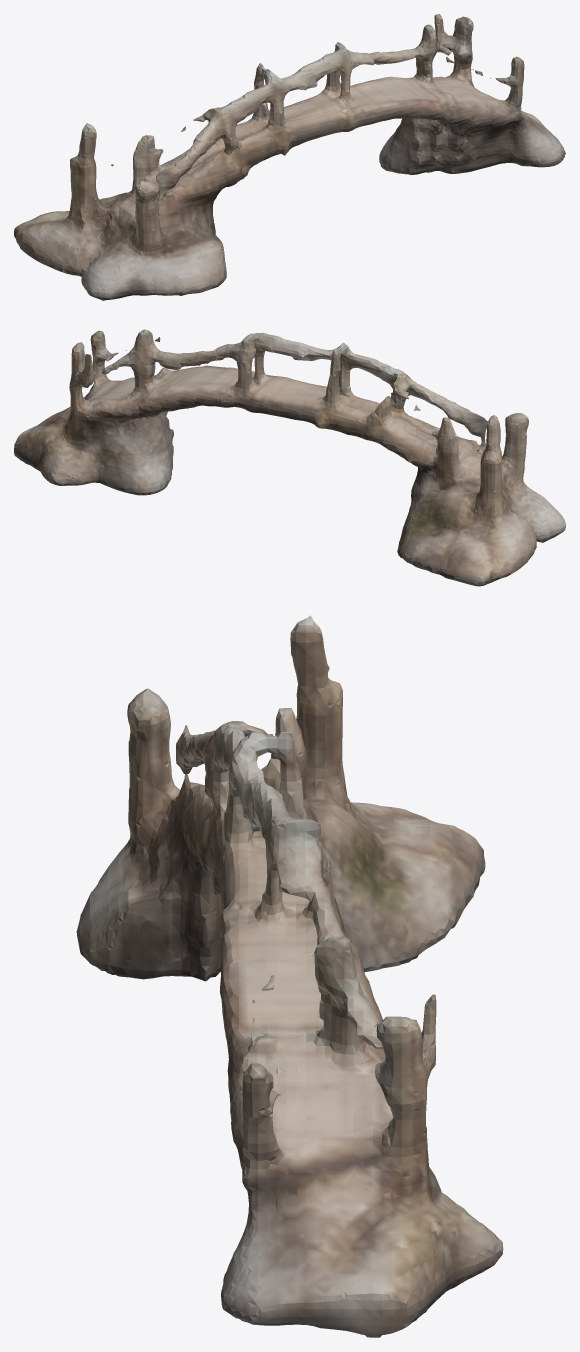
The model's file is BF2ZqomsUjuK.jpg.glb.
The picture shows the model from 3 angles, top to bottom: view 1: azimuth 30°, elevation 25°; view 2: azimuth 150°, elevation 25°; view 3: azimuth 270°, elevation 25°; orthographic projection. The views are drawn at different scales.
Parts seen in each view (by area): view 1: world; view 2: world; view 3: world.
Boxes of the visible parts, x1,y1,x2,y2 form: world: (14,14,565,300); world: (14,329,565,586); world: (76,615,503,1337).
Bounding box in the file's own units: 1.98 × 0.6141 × 0.7306.
